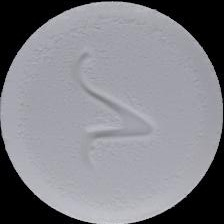43353-691: (0, 0, 224, 224)
